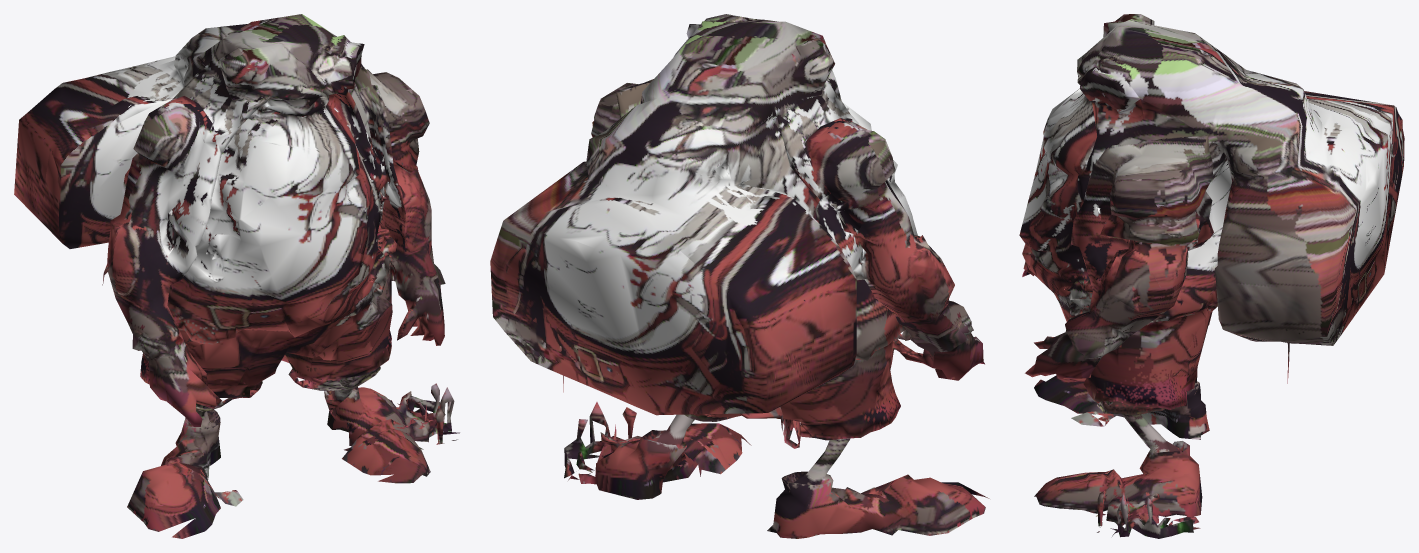
File: cinderhand_thrall.glb
3 views of the same model, side by side, from view 1: azimuth 30°, elevation 25°; view 2: azimuth 150°, elevation 25°; view 3: azimuth 270°, elevation 25° (orthographic). The views are drawn at different scales.
Visible parts, largest first — view 1: LP_baked; view 2: LP_baked; view 3: LP_baked.
Part boxes in pixels (x1,y1,x2,y2): LP_baked: (14,14,459,538); LP_baked: (490,14,989,538); LP_baked: (1019,14,1404,538).
Size of the model in its own units: 1.6 by 1.93 by 1.57.
Materials: 1 (1 with a texture image).
